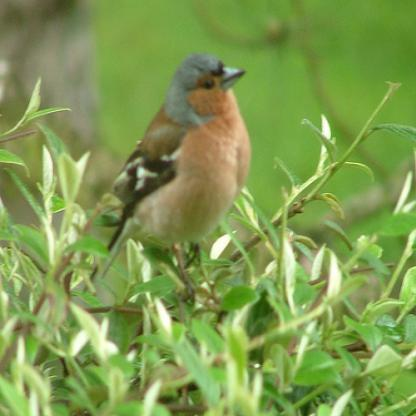bird: (95, 52, 251, 306)
